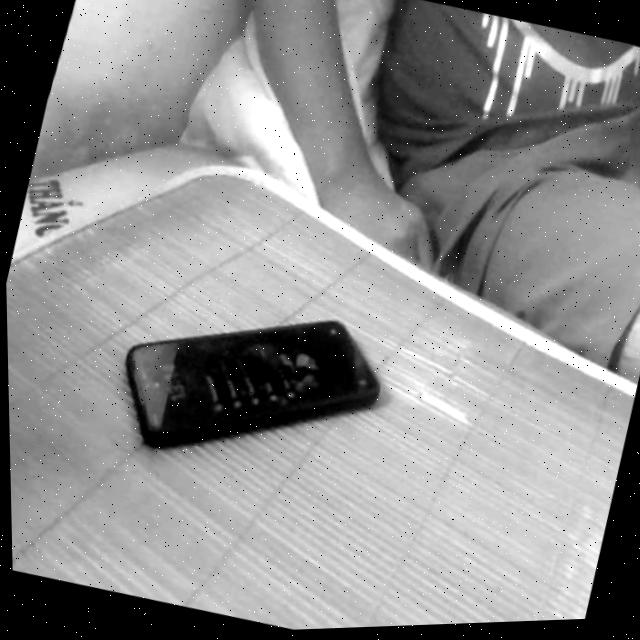phone: (74, 242, 419, 535)
